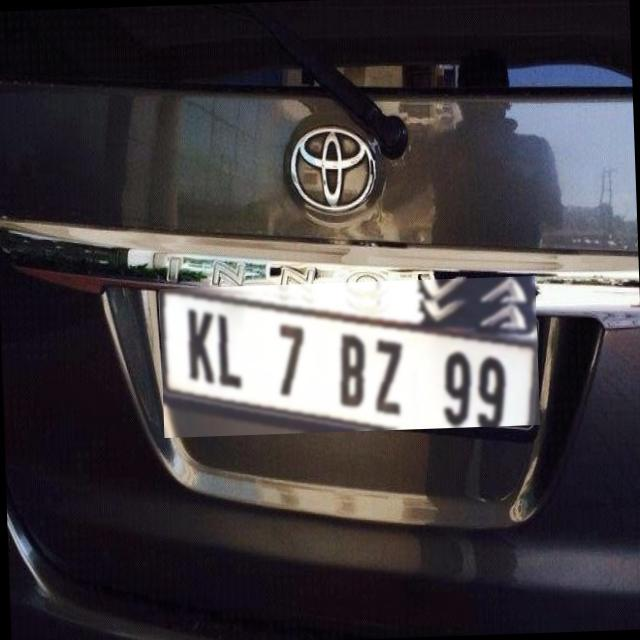Plate: (160, 277, 541, 439)
